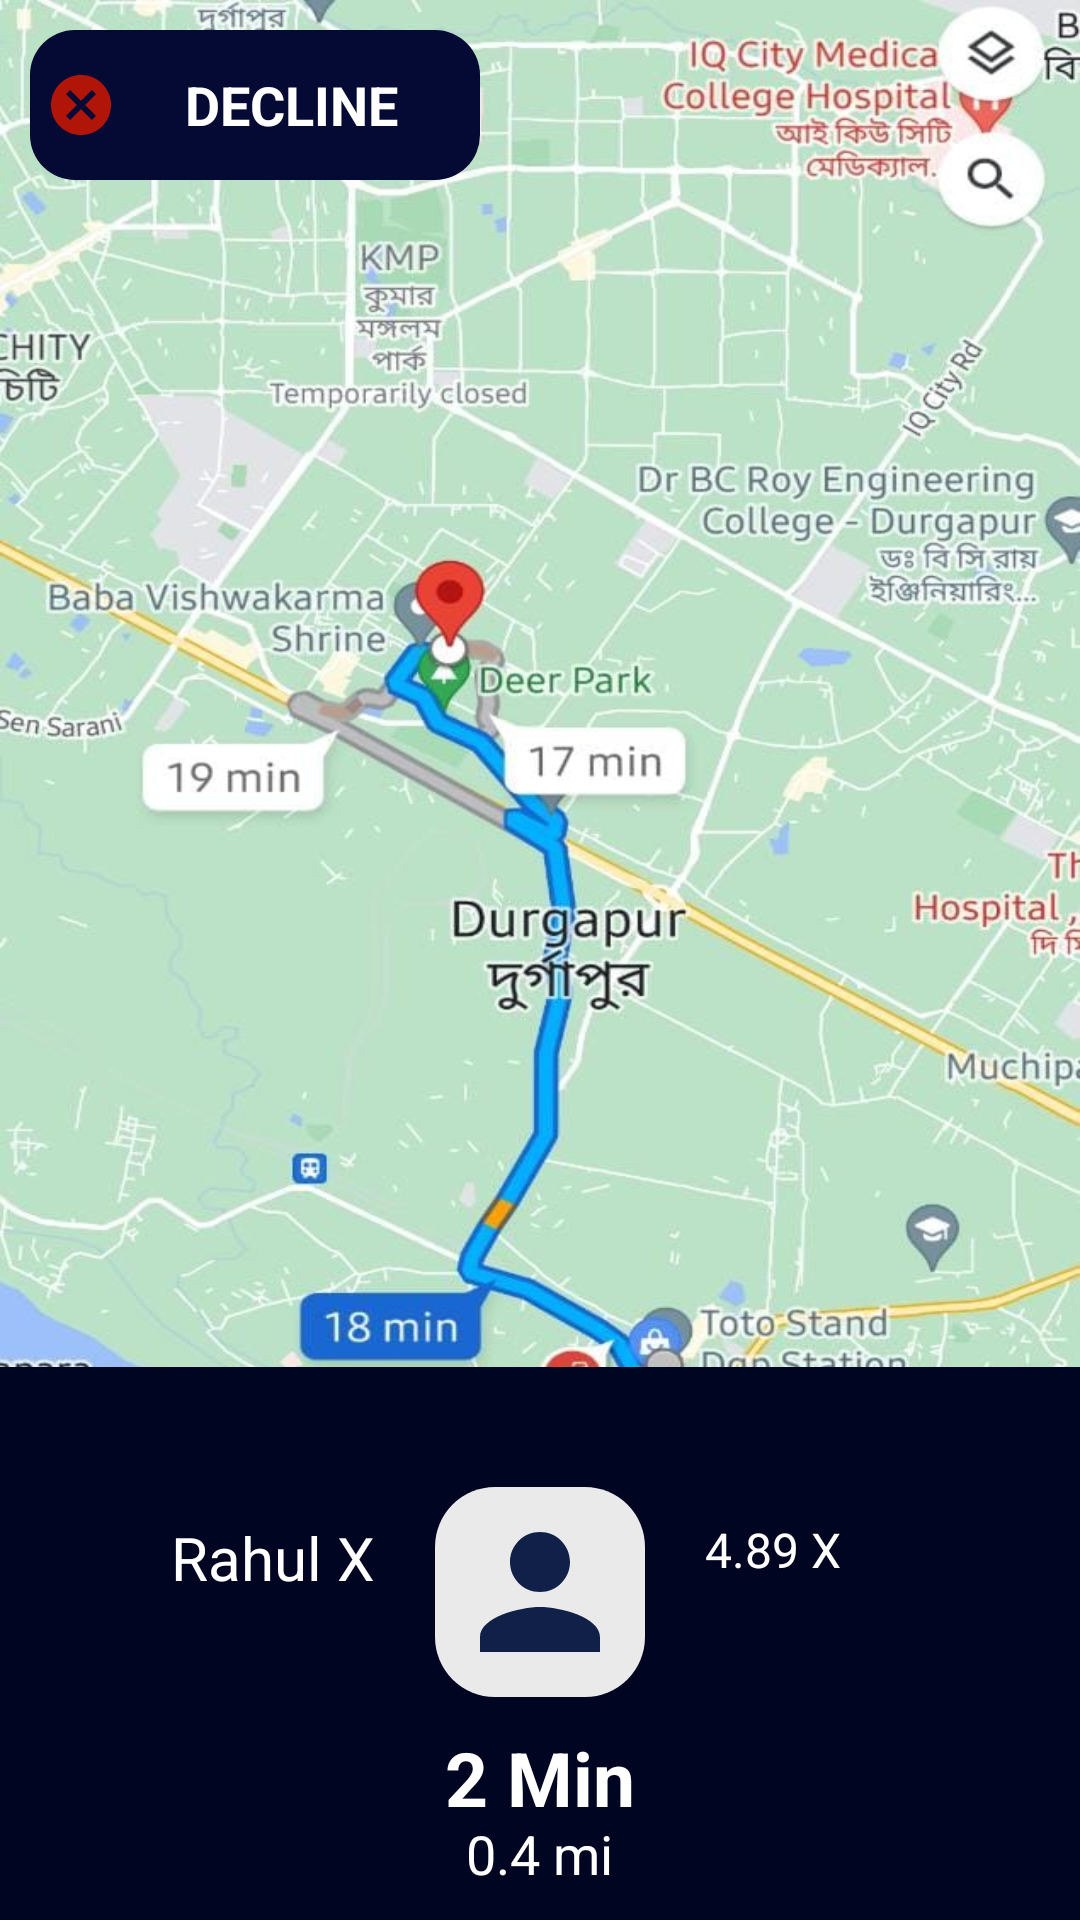

Point at icon controls on the screen. Image size 1080 x 1920, points as (x,y).
person: (540,1592)
